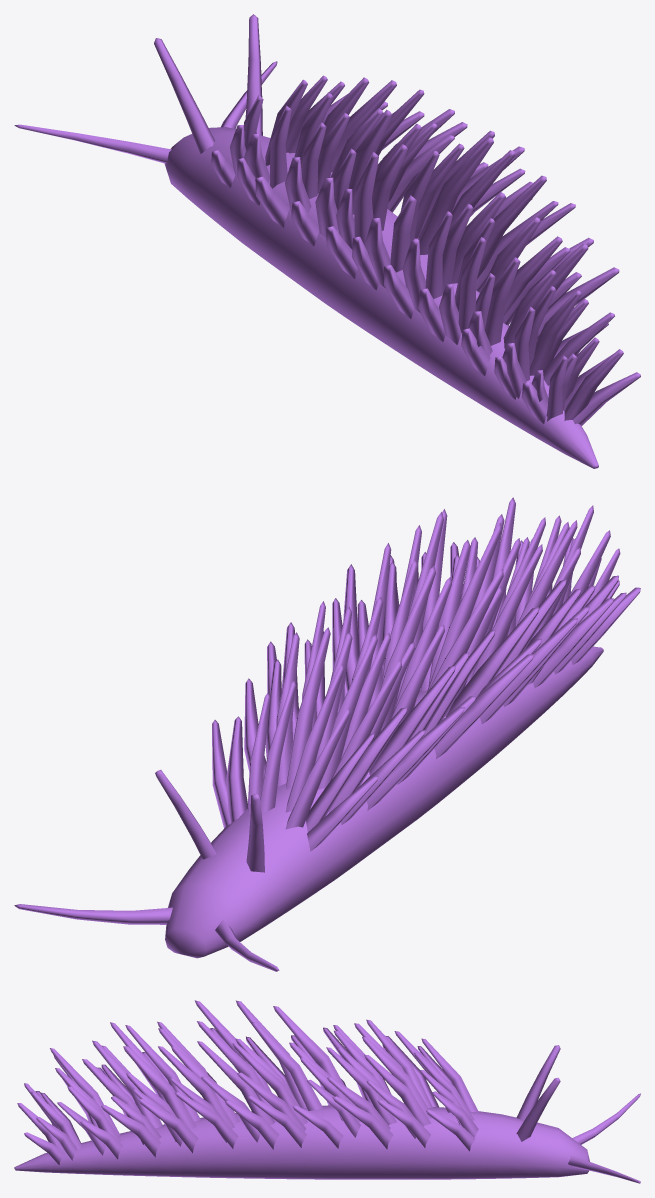
Rendered from nudibranch_lo.glb.
3 views of the same model, one above another, from view 1: azimuth 30°, elevation 25°; view 2: azimuth 150°, elevation 25°; view 3: azimuth 270°, elevation 25° (orthographic). The views are drawn at different scales.
Parts seen in each view (by area): view 1: nudibranch_lo; view 2: nudibranch_lo; view 3: nudibranch_lo.
Part boxes in pixels (left/top/right/bottom): nudibranch_lo: left=14, top=14, right=640, bottom=468; nudibranch_lo: left=14, top=497, right=640, bottom=971; nudibranch_lo: left=14, top=1000, right=640, bottom=1183.
Size of the model in its own units: 0.0256 by 0.0213 by 0.076.
